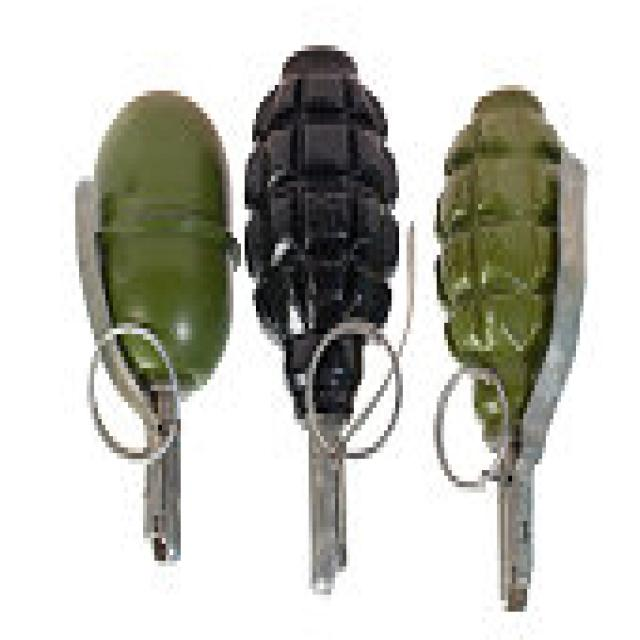grenade: (238, 31, 429, 602), (434, 69, 598, 624), (70, 89, 246, 572)
